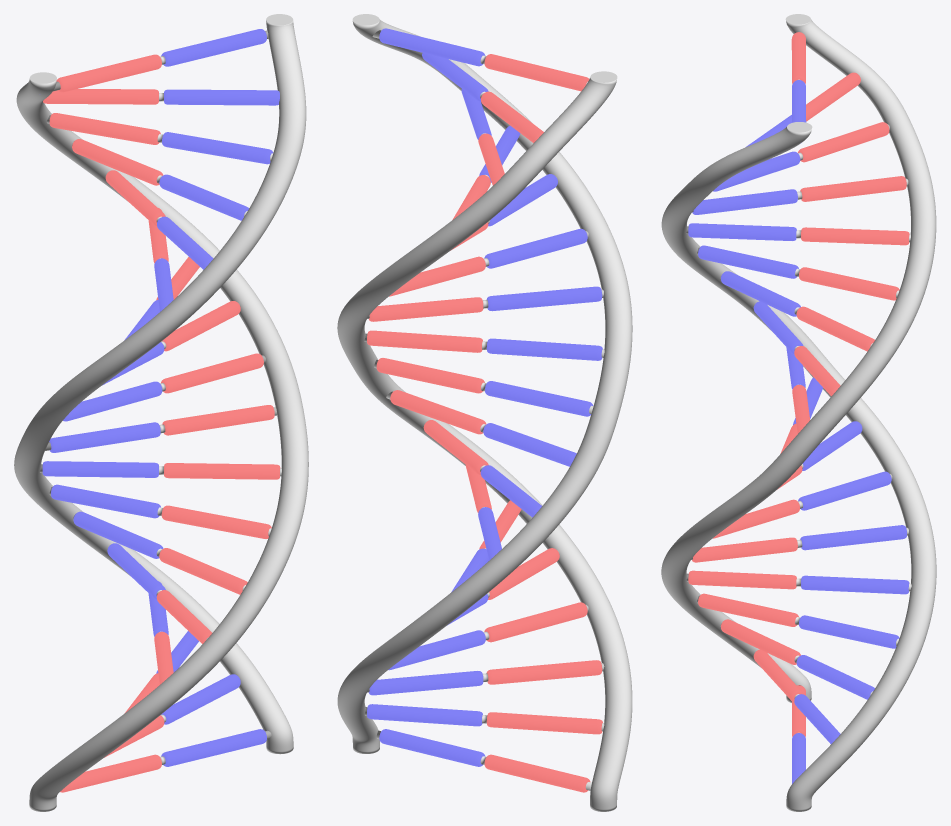
Rendered from DNA_2.glb.
3 views of the same model, side by side, from view 1: azimuth 30°, elevation 25°; view 2: azimuth 150°, elevation 25°; view 3: azimuth 270°, elevation 25° (orthographic). The views are drawn at different scales.
Parts seen in each view (by area): view 1: NurbsPath.003, NurbsPath.002, Cylinder.011, Cylinder.012, Cylinder.020, Cylinder.019, Cylinder.010, Cylinder.021, Cylinder.001, Cylinder.013, Cylinder.018, Cylinder.009 (+8 smaller); view 2: NurbsPath.002, NurbsPath.003, Cylinder.014, Cylinder.005, Cylinder.006, Cylinder.015, Cylinder.013, Cylinder.001, Cylinder.021, Cylinder.012, Cylinder.007, Cylinder.016 (+8 smaller); view 3: NurbsPath.002, NurbsPath.003, Cylinder.008, Cylinder.017, Cylinder.009, Cylinder.018, Cylinder.016, Cylinder.007, Cylinder.010, Cylinder.019, Cylinder.006, Cylinder.015 (+8 smaller).
Boxes of the visible parts, left/top/right/bottom form: NurbsPath.003: left=14, top=14, right=306, bottom=754; NurbsPath.002: left=16, top=72, right=308, bottom=811; Cylinder.011: left=40, top=461, right=281, bottom=479; Cylinder.012: left=44, top=405, right=276, bottom=452; Cylinder.020: left=43, top=89, right=279, bottom=105; Cylinder.019: left=46, top=113, right=273, bottom=164; Cylinder.010: left=49, top=484, right=271, bottom=538; Cylinder.021: left=40, top=29, right=268, bottom=94; Cylinder.001: left=60, top=729, right=271, bottom=792; Cylinder.013: left=63, top=353, right=265, bottom=421; Cylinder.018: left=72, top=139, right=248, bottom=220; Cylinder.009: left=73, top=511, right=247, bottom=594; NurbsPath.002: left=337, top=71, right=632, bottom=811; NurbsPath.003: left=337, top=14, right=632, bottom=753; Cylinder.014: left=364, top=330, right=604, bottom=360; Cylinder.005: left=364, top=704, right=604, bottom=734; Cylinder.006: left=367, top=660, right=604, bottom=695; Cylinder.015: left=367, top=286, right=603, bottom=321; Cylinder.013: left=374, top=358, right=593, bottom=416; Cylinder.001: left=376, top=729, right=591, bottom=792; Cylinder.021: left=372, top=28, right=589, bottom=91; Cylinder.012: left=386, top=390, right=576, bottom=466; Cylinder.007: left=388, top=602, right=588, bottom=670; Cylinder.016: left=389, top=228, right=588, bottom=296; NurbsPath.002: left=661, top=14, right=936, bottom=702; NurbsPath.003: left=661, top=122, right=936, bottom=811; Cylinder.008: left=686, top=570, right=911, bottom=594; Cylinder.017: left=686, top=223, right=910, bottom=245; Cylinder.009: left=691, top=525, right=908, bottom=562; Cylinder.018: left=692, top=176, right=908, bottom=214; Cylinder.016: left=697, top=245, right=899, bottom=300; Cylinder.007: left=697, top=593, right=899, bottom=648; Cylinder.010: left=713, top=471, right=892, bottom=538; Cylinder.019: left=713, top=122, right=889, bottom=191; Cylinder.006: left=720, top=619, right=874, bottom=699; Cylinder.015: left=720, top=271, right=874, bottom=351.
Bounding box in the file's own units: 1.06 × 2.83 × 1.04.
